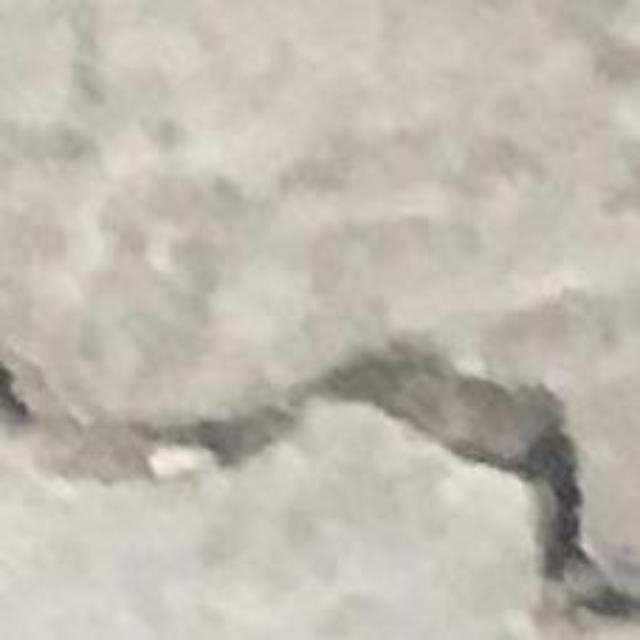crack: (0, 342, 639, 623)
